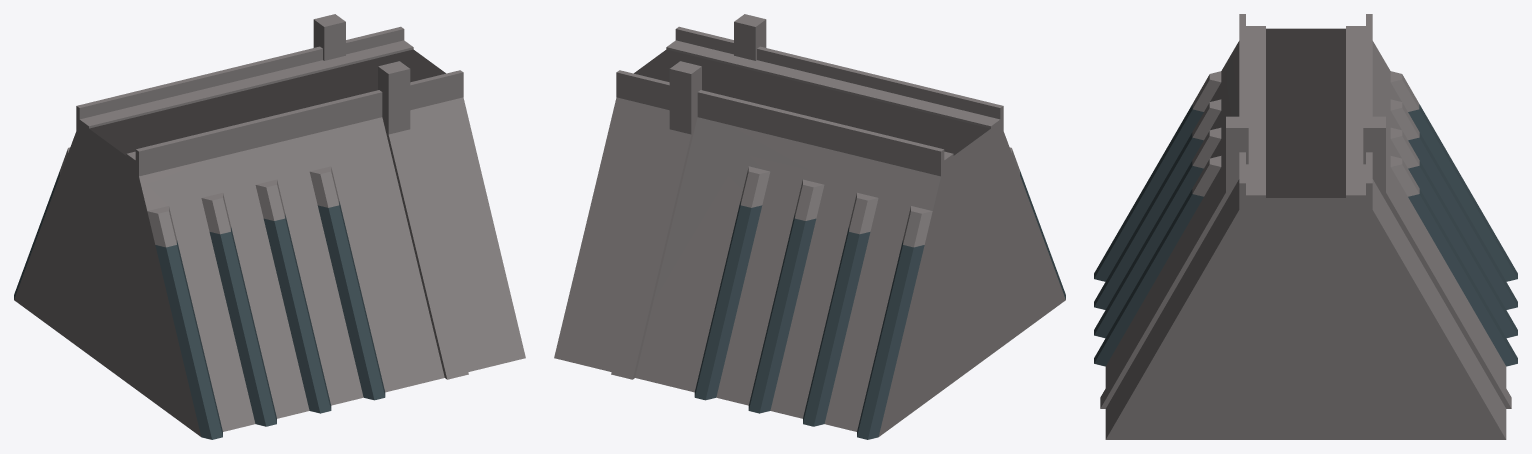
File: buildings_dam-branch.fbx
The picture shows the model from 3 angles, left to right: view 1: azimuth 30°, elevation 25°; view 2: azimuth 150°, elevation 25°; view 3: azimuth 270°, elevation 25°; orthographic projection. The views are drawn at different scales.
Visible parts, largest first — view 1: buildings_dam_branch; view 2: buildings_dam_branch; view 3: buildings_dam_branch.
Part boxes in pixels (x1,y1,x2,y2): buildings_dam_branch: [14, 14, 525, 439]; buildings_dam_branch: [554, 14, 1065, 439]; buildings_dam_branch: [1094, 14, 1517, 439].
Bounding box in the file's own units: 189 × 146 × 200.
